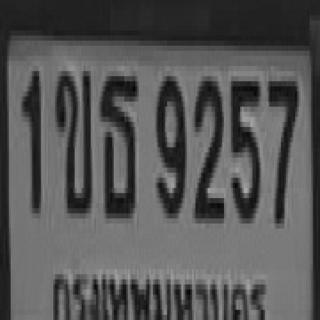A02: (53, 66, 91, 208)
A24: (98, 71, 137, 213)
N01: (19, 66, 39, 208)
N02: (192, 71, 222, 218)
N05: (229, 76, 258, 218)
N07: (267, 76, 297, 218)
N09: (155, 71, 183, 213)
